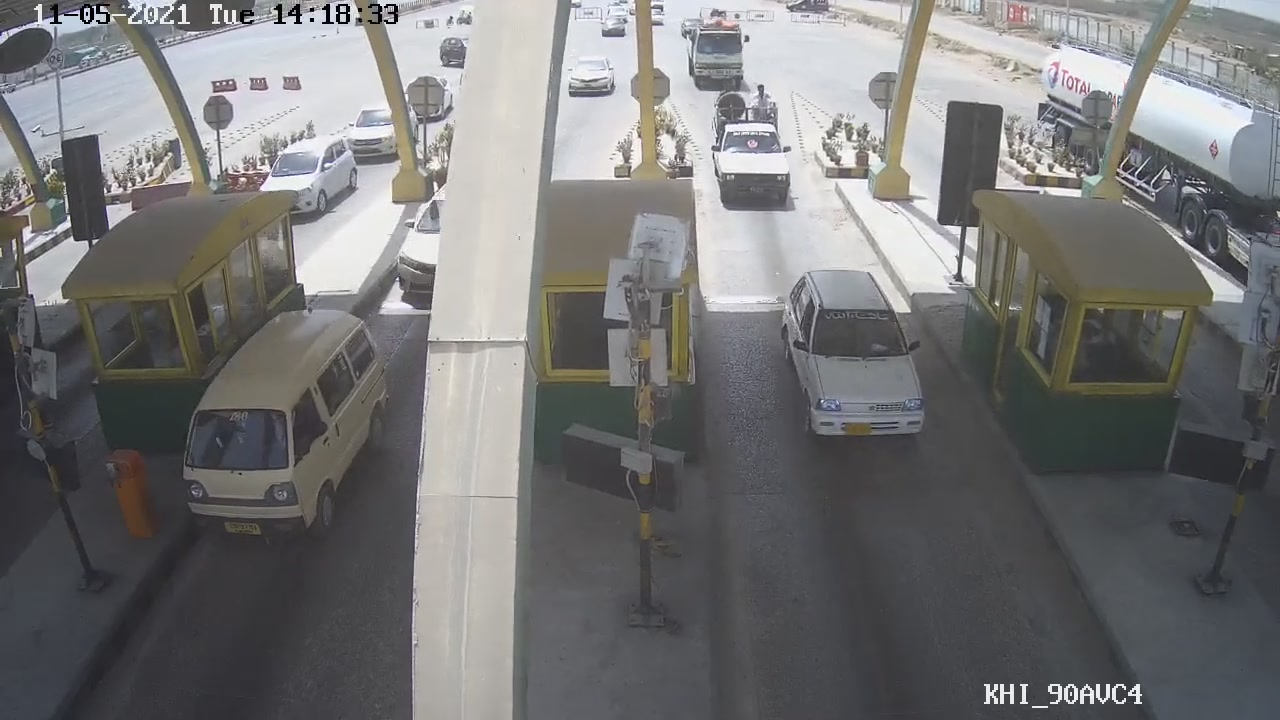F1: (781, 268, 926, 447)
